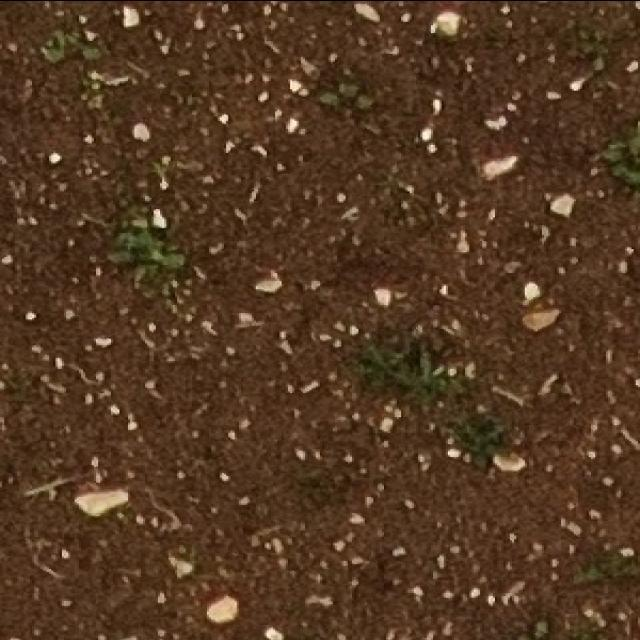cirse: (397, 352, 461, 418), (396, 339, 459, 406), (379, 361, 442, 422)
